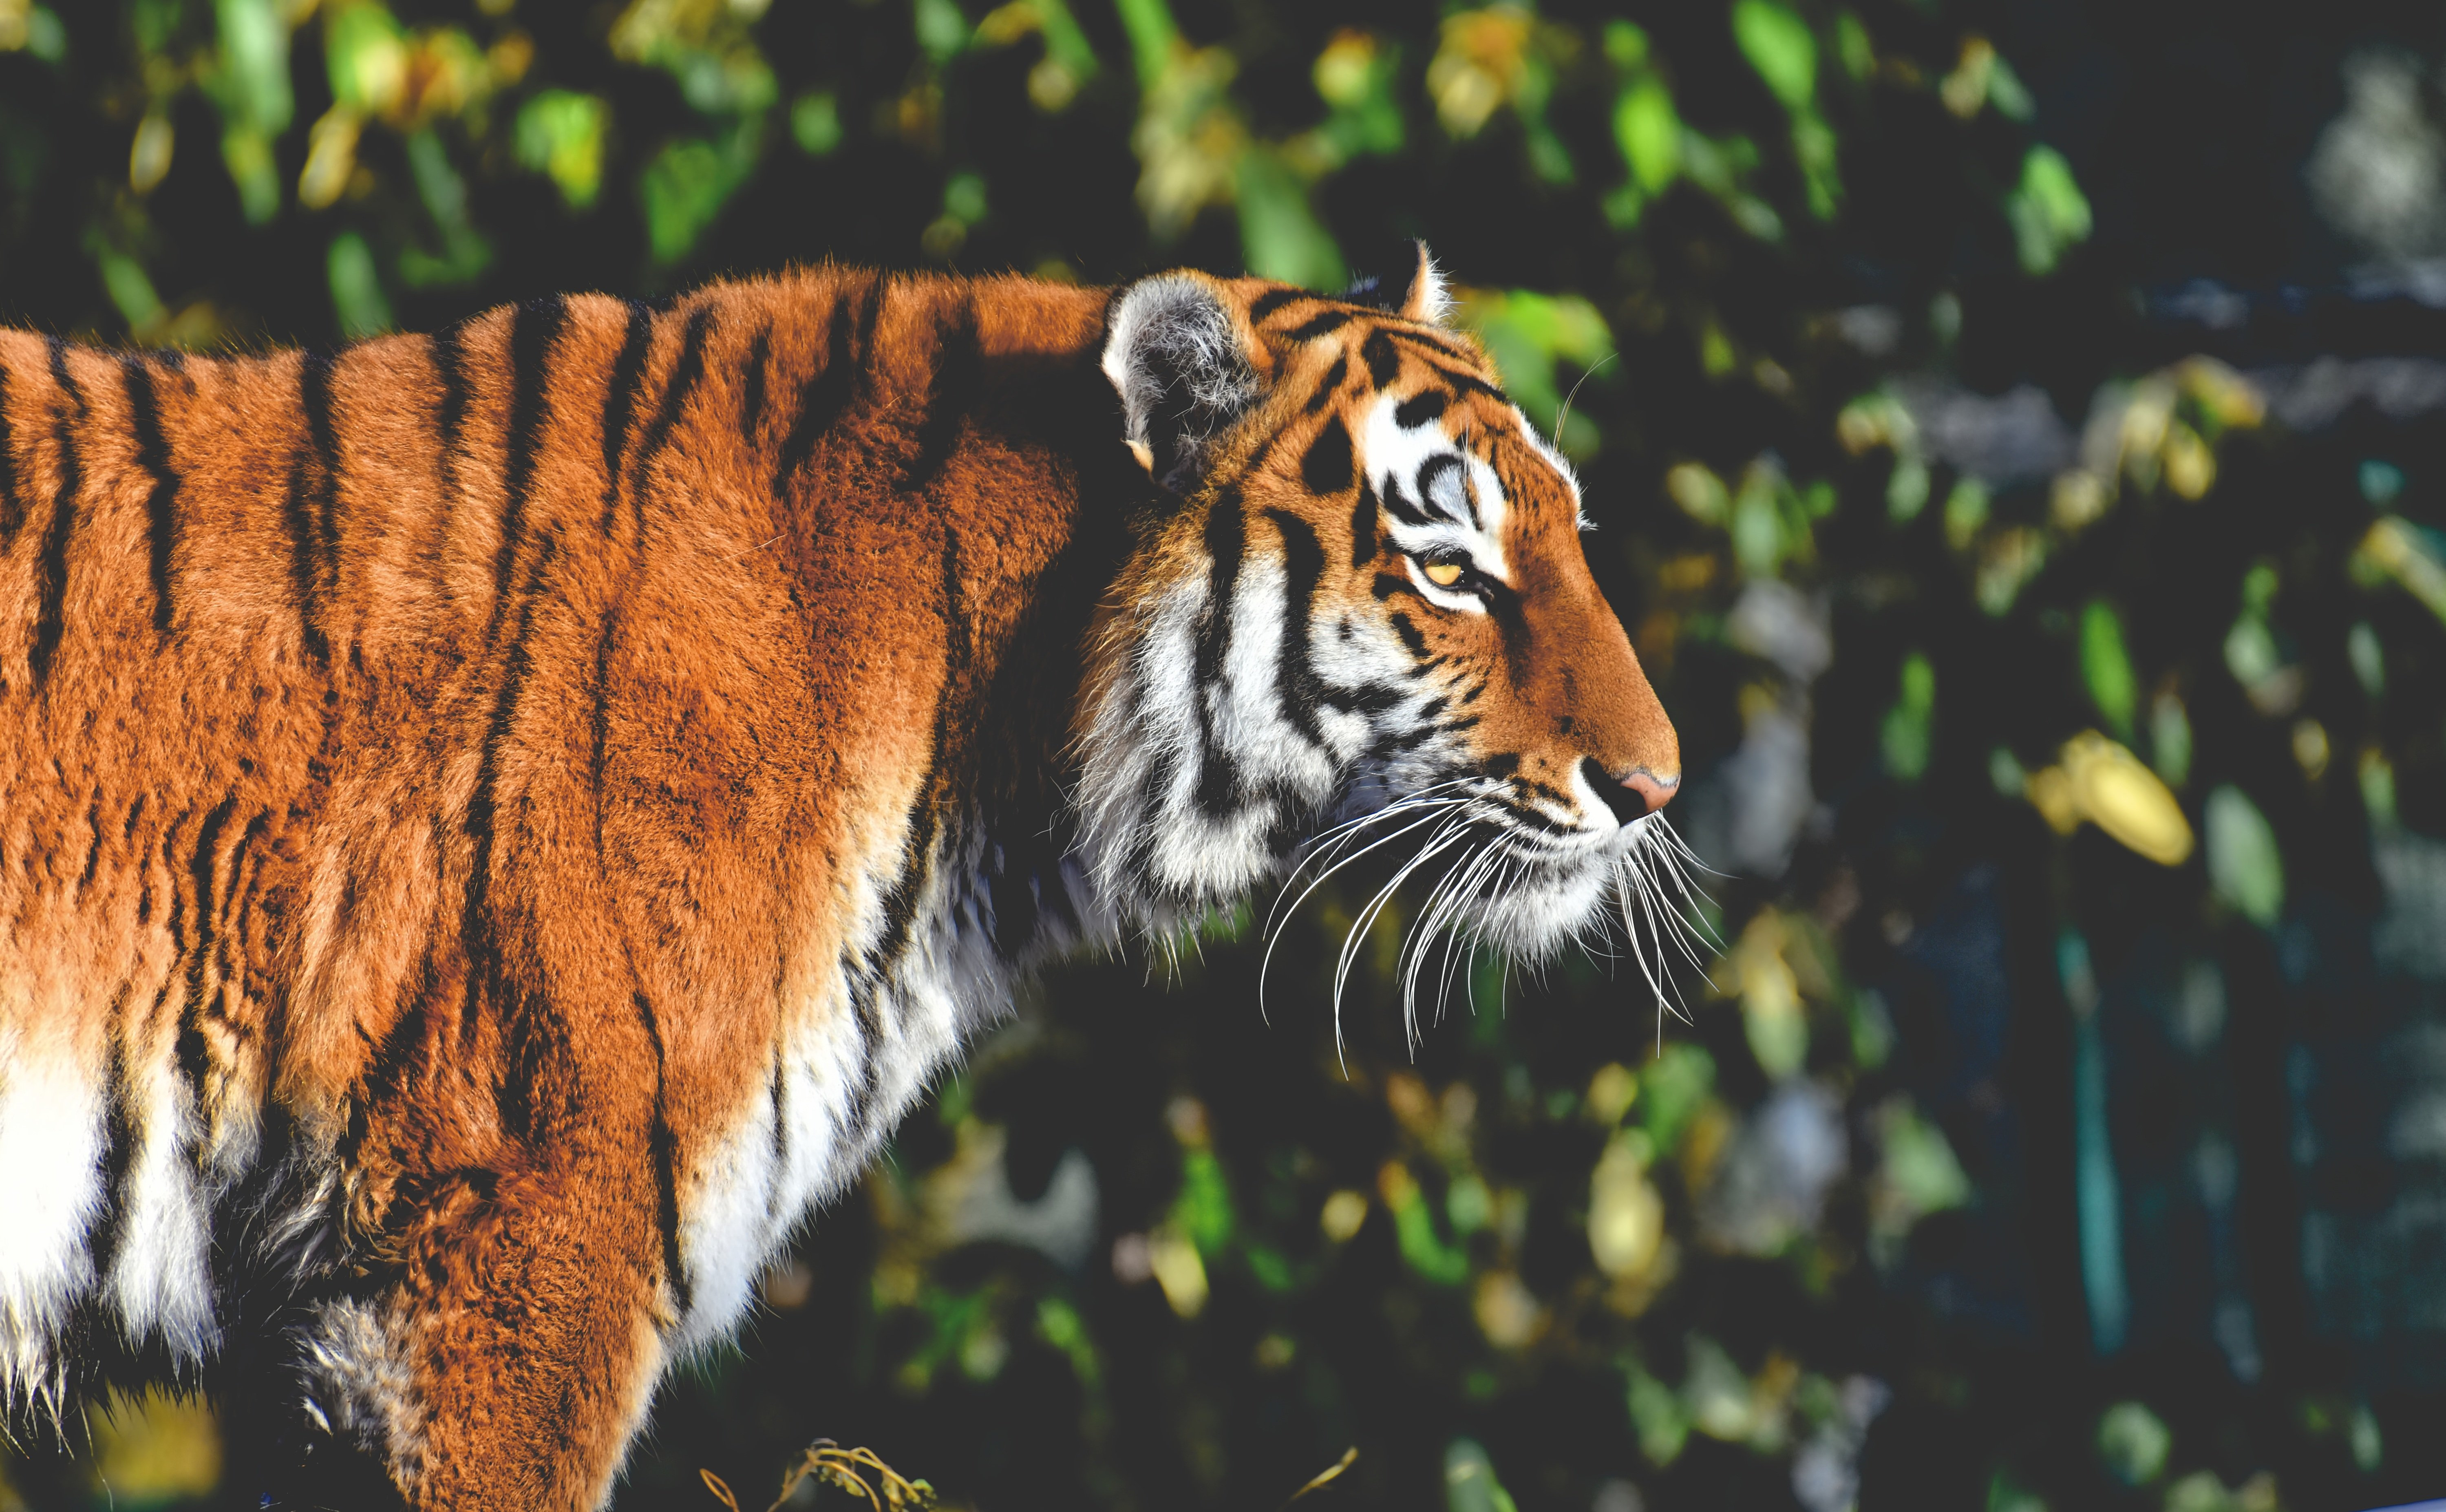tiger: (94, 246, 1627, 1383)
